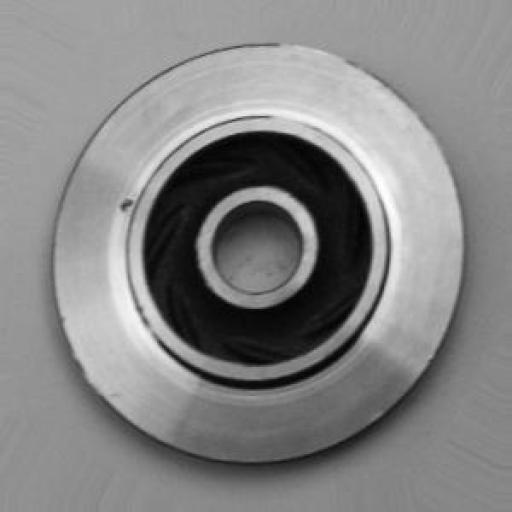defect: (106, 176, 160, 233)
